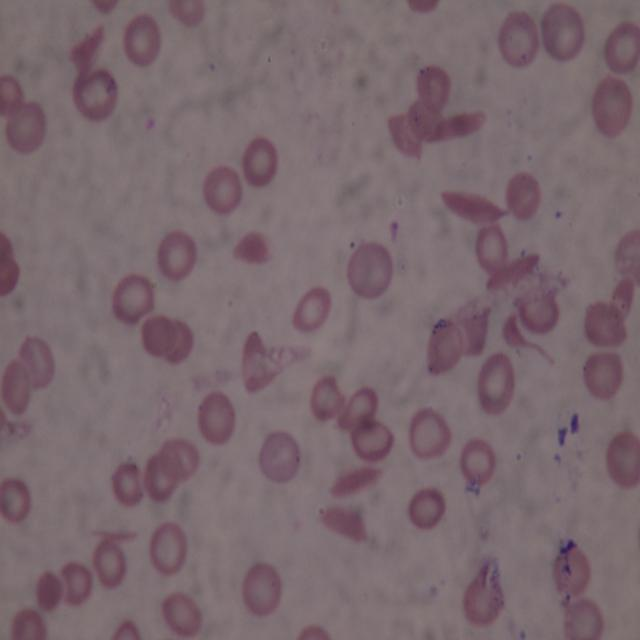Crystal: (317, 504, 370, 544), (433, 109, 488, 142)
Normal: (73, 67, 119, 124), (110, 274, 156, 326), (478, 352, 515, 416), (409, 406, 452, 461), (240, 562, 282, 617), (155, 230, 198, 282), (5, 101, 47, 154), (201, 165, 243, 216), (124, 12, 162, 67), (149, 523, 188, 576), (602, 19, 640, 71), (241, 136, 280, 185), (406, 486, 446, 533), (474, 226, 507, 274), (92, 540, 125, 587), (461, 439, 494, 484), (112, 461, 146, 504), (2, 477, 30, 522)
Others: (588, 74, 633, 138), (344, 240, 393, 297), (540, 2, 588, 58), (462, 570, 508, 628), (238, 328, 276, 394), (497, 10, 541, 66), (290, 284, 333, 341), (158, 591, 208, 638), (260, 431, 302, 486), (332, 381, 380, 429), (586, 349, 626, 402), (197, 391, 236, 445), (585, 302, 628, 350), (604, 429, 640, 486), (67, 19, 105, 72), (516, 292, 563, 334), (554, 544, 591, 595), (429, 320, 463, 374), (460, 304, 492, 361), (347, 425, 396, 462), (413, 63, 452, 108), (19, 336, 54, 386), (308, 375, 345, 422), (382, 114, 421, 158), (613, 226, 639, 291), (507, 170, 540, 220), (146, 449, 177, 502), (161, 441, 200, 480), (564, 598, 600, 640), (1, 362, 29, 413), (232, 230, 272, 265), (140, 317, 177, 353), (61, 564, 93, 605), (170, 1, 208, 34), (11, 608, 47, 640), (36, 570, 63, 609), (1, 72, 25, 113), (1, 254, 21, 296), (109, 618, 147, 638), (0, 224, 17, 268), (292, 626, 337, 640)
Sickle: (438, 186, 511, 224), (489, 255, 542, 292), (330, 461, 381, 498)
